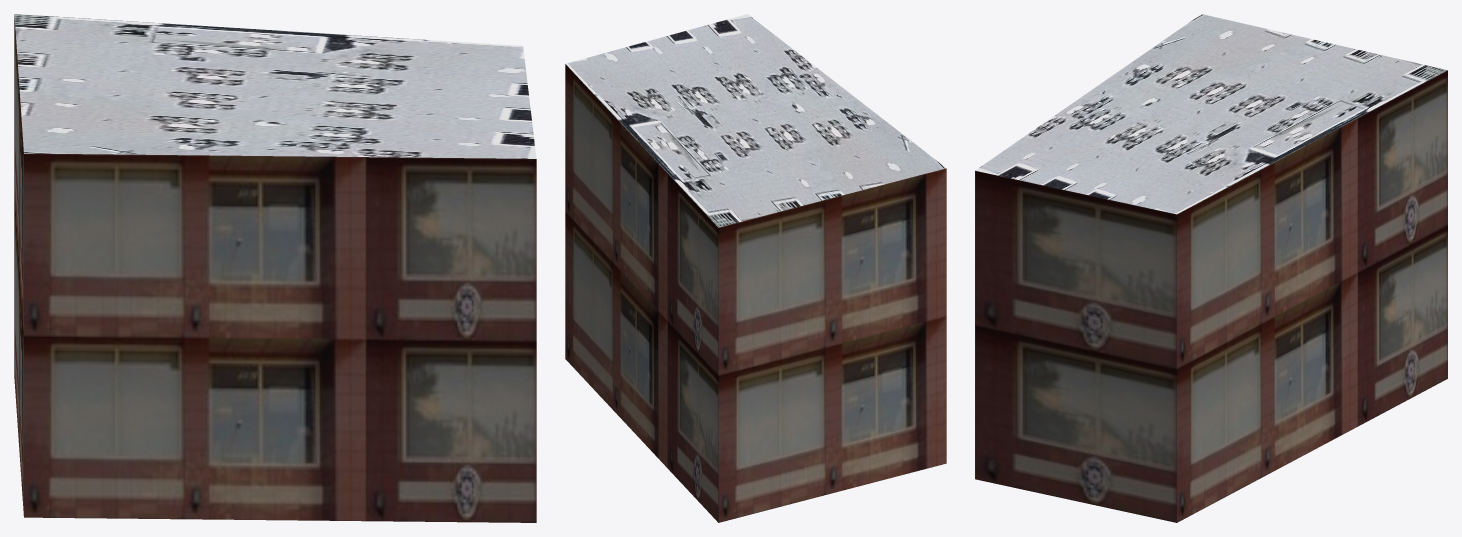
Rendered from ResTex__538.fbx.
3 views of the same model, side by side, from view 1: azimuth 30°, elevation 25°; view 2: azimuth 150°, elevation 25°; view 3: azimuth 270°, elevation 25° (orthographic). The views are drawn at different scales.
Parts seen in each view (by area): view 1: CityEngineMaterial_13_m, CityEngineMaterial_8_m; view 2: CityEngineMaterial_13_m, CityEngineMaterial_8_m; view 3: CityEngineMaterial_13_m, CityEngineMaterial_8_m.
Boxes of the visible parts, bbox=[...] form: CityEngineMaterial_13_m: bbox=[14, 15, 536, 522]; CityEngineMaterial_8_m: bbox=[14, 14, 536, 158]; CityEngineMaterial_13_m: bbox=[565, 64, 946, 522]; CityEngineMaterial_8_m: bbox=[565, 14, 945, 227]; CityEngineMaterial_13_m: bbox=[975, 70, 1447, 522]; CityEngineMaterial_8_m: bbox=[975, 14, 1447, 214].
Bounding box in the file's own units: 8.36 × 6 × 8.33.
2 materials, 2 textured.
